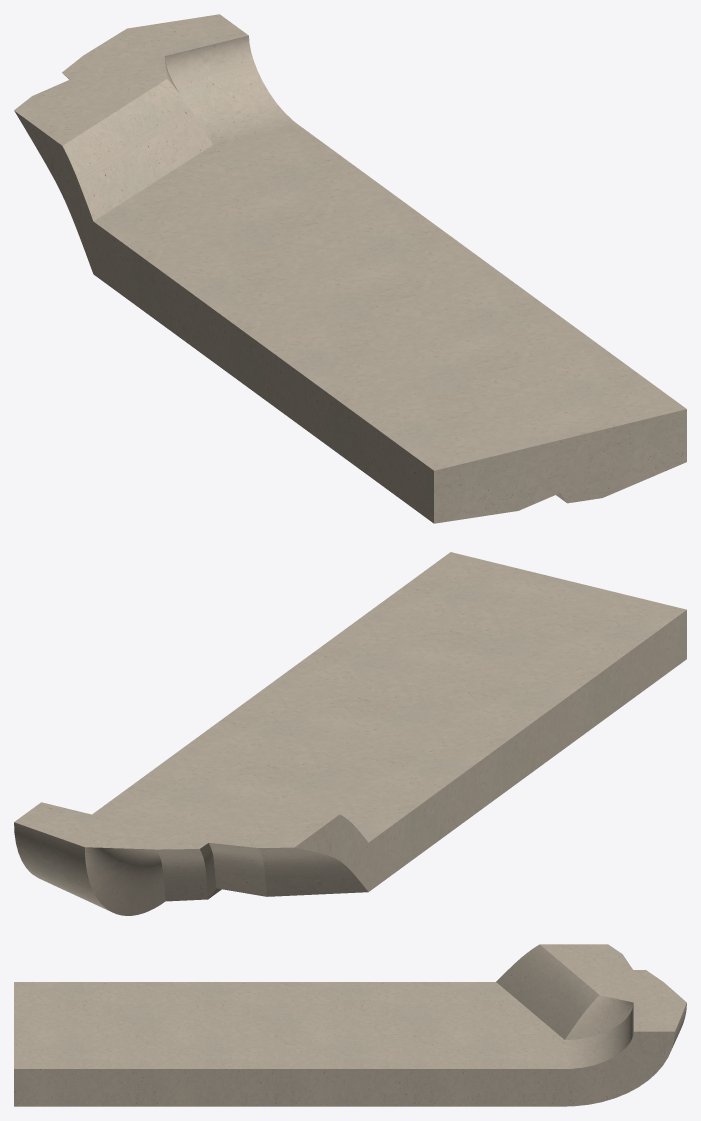
The picture shows the model from 3 angles, top to bottom: view 1: azimuth 30°, elevation 25°; view 2: azimuth 150°, elevation 25°; view 3: azimuth 270°, elevation 25°; orthographic projection. The views are drawn at different scales.
Parts seen in each view (by area): view 1: F6.SLDPRT; view 2: F6.SLDPRT; view 3: F6.SLDPRT.
Part boxes in pixels (left/top/right/bottom): F6.SLDPRT: left=14, top=14, right=686, bottom=523; F6.SLDPRT: left=14, top=552, right=686, bottom=915; F6.SLDPRT: left=14, top=944, right=686, bottom=1106.
Bounding box in the file's own units: 0.15 × 0.0687 × 0.4887.
1 material, 1 textured.
